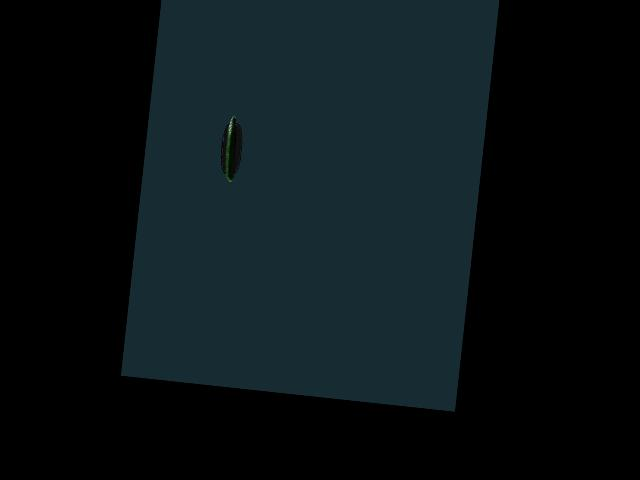cucumber: (223, 114, 240, 182)
